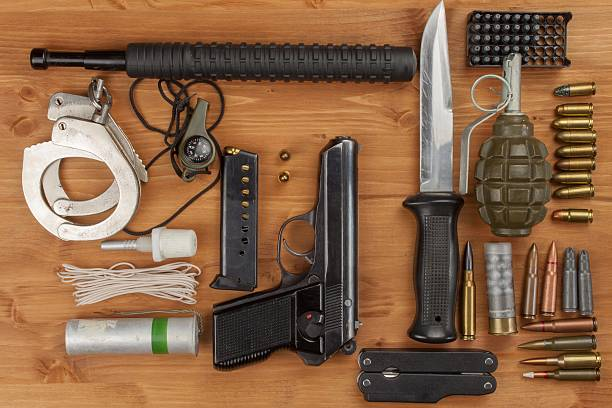e1: (464, 55, 552, 229)
